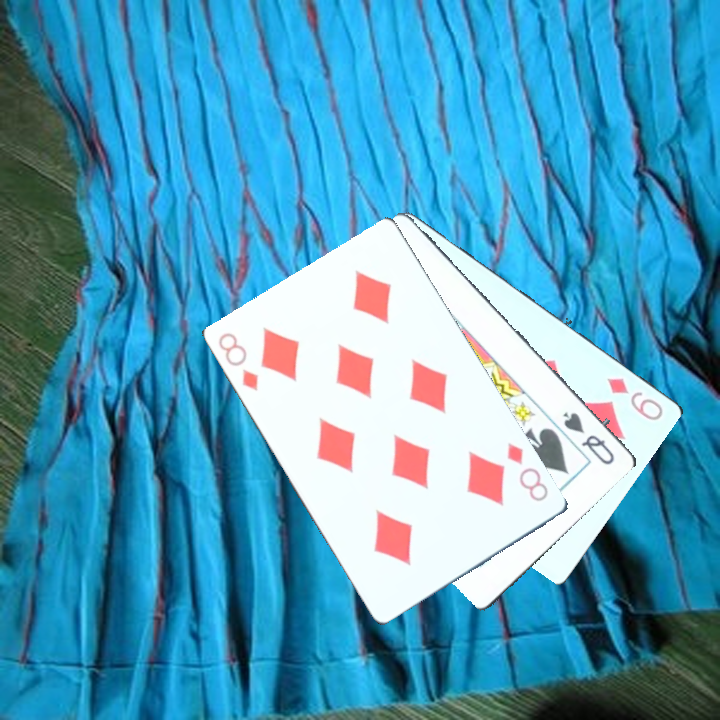8d: (503, 438, 551, 504), (214, 328, 262, 394)
9d: (602, 373, 666, 424)
Qs: (559, 408, 618, 468)
